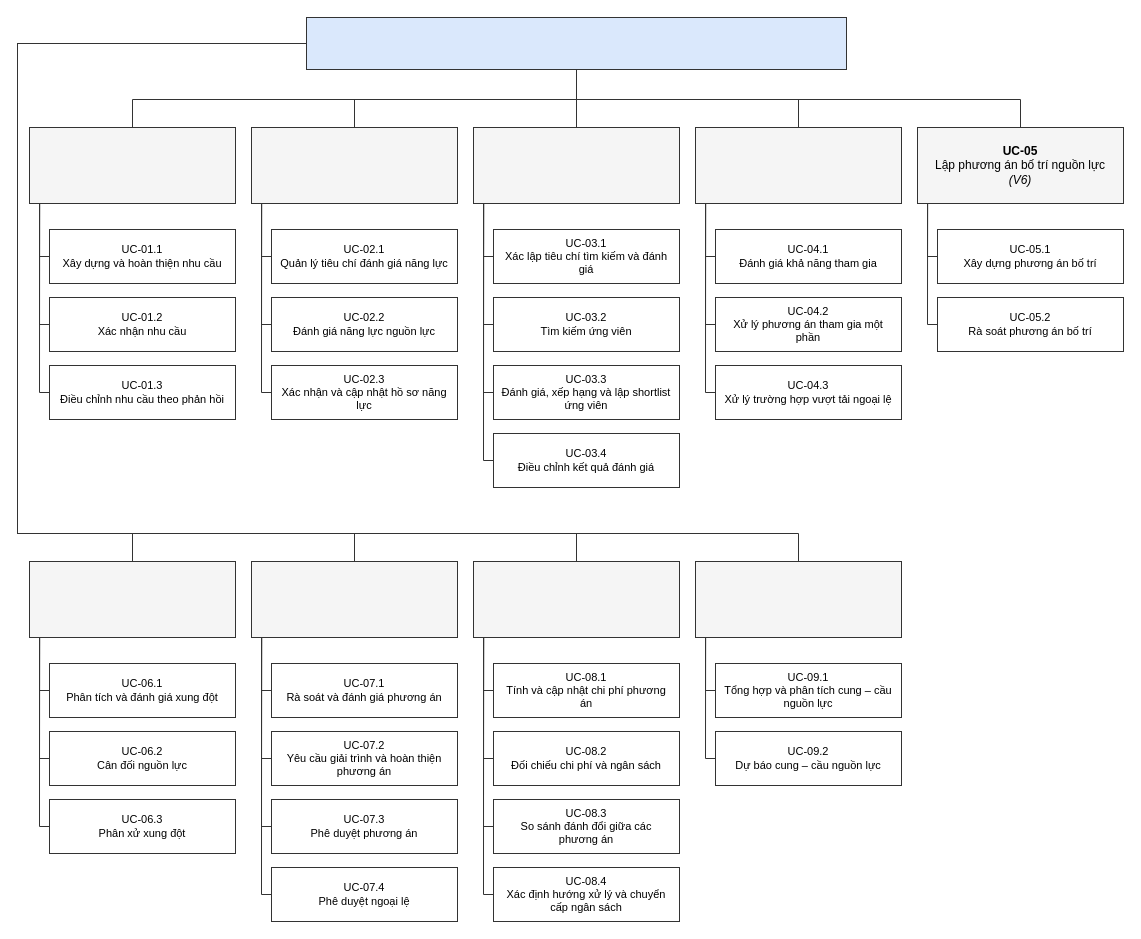
Image size: 1141x939. Some labels were removed from this diagram. The shapes that lost their labels are listed below. From the top down, each one's centre as x and y in pixels, then its label:
At point 576,43: "Hệ thống quản lý và điều phối nguồn lực dự án – Lạc Việt Consulting".
At point 132,165: "UC-01 Xác định nhu cầu nguồn lực (V2)".
At point 354,165: "UC-02 Đánh giá năng lực nguồn lực (V3)".
At point 576,165: "UC-03 Tìm kiếm và đánh giá mức độ phù hợp (V4)".
At point 798,165: "UC-04 Đánh giá khả năng tham gia (V5)".
At point 132,599: "UC-06 Xử lý xung đột và cân đối nguồn lực (V7)".
At point 354,599: "UC-07 Rà soát và phê duyệt phương án (V8)".
At point 576,599: "UC-08 Đánh giá tác động chi phí và ngân sách (V9)".
At point 798,599: "UC-09 Theo dõi và dự báo nguồn lực (V10)".
